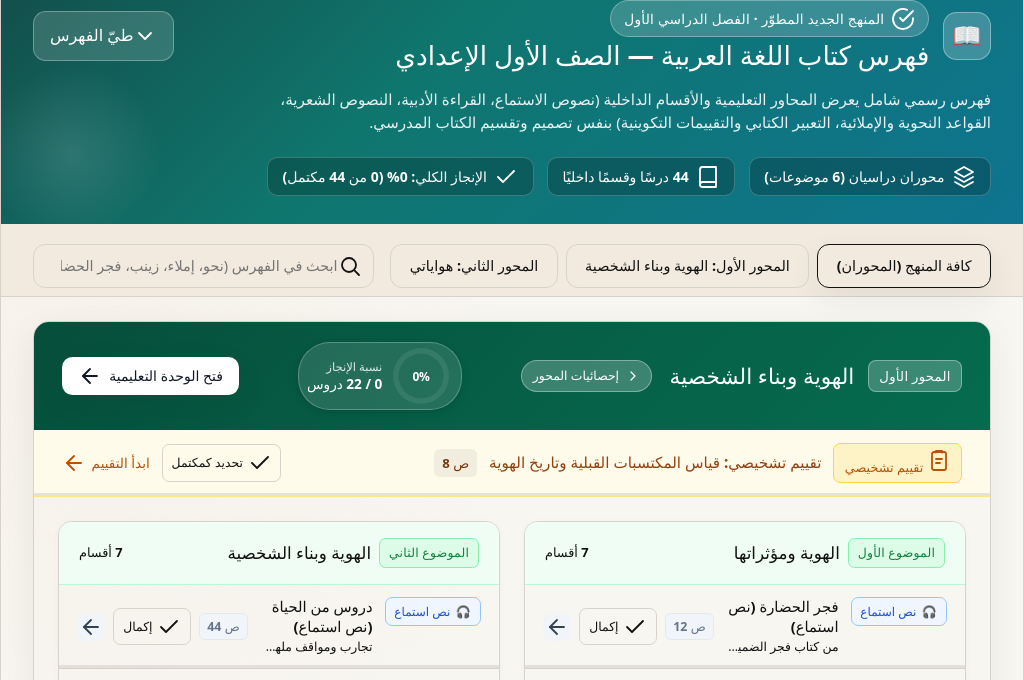
Scenario: مخطط Recharts لتقدم إنجاز الدروس خلال آخر 7 أيام (Recharts Progress Line Chart) › يظهر مخطط Recharts البياني داخل .prep1-theme-dropdown عند توسيع رأس المحور
// النقر لتوسيع القائمة المنسدلة
Click the button with aria-label "انقر لعرض إحصائيات سريعة عن دروس المحور": {"x": 915, "y": 376} top-left (34, 322), bottom-right (990, 430)
(page scrolled)
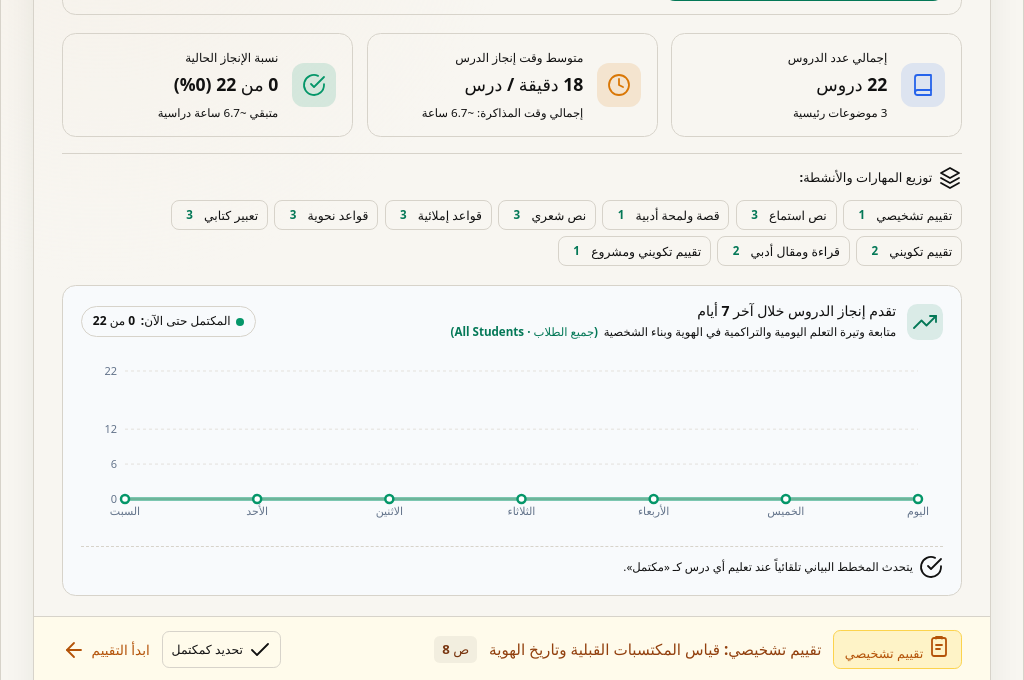
Check: the element with test id "theme-recharts-line-chart" is shown, box top-left (62, 284), bottom-right (962, 596)
Check: the heading "تقدم إنجاز الدروس خلال آخر 7 أيام" is shown, box top-left (697, 300), bottom-right (896, 320)
Check: the text "متابعة وتيرة التعلم اليومية والتراكمية" is shown, box top-left (703, 324), bottom-right (896, 339)
